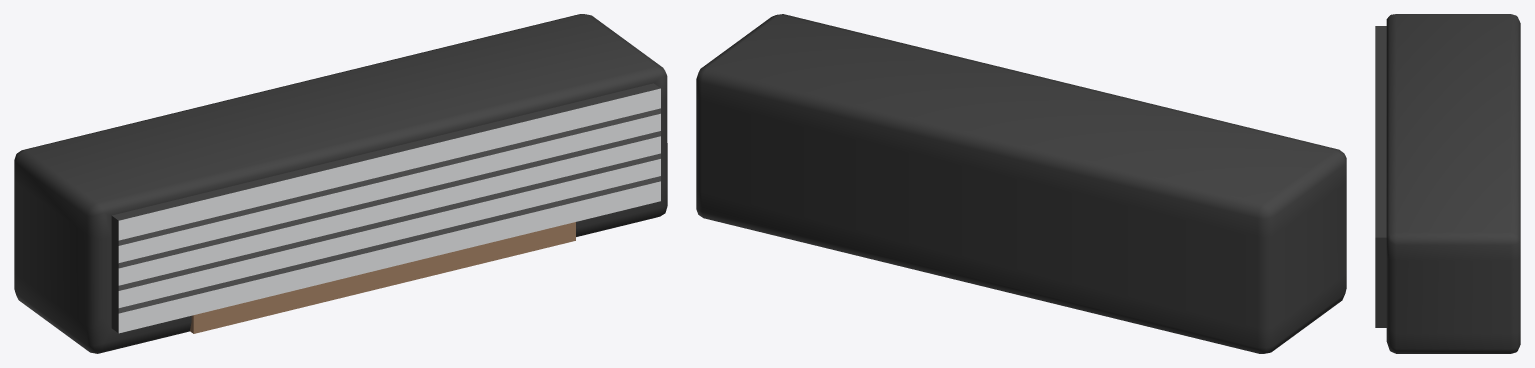
Rendered from Air-Conditioning.fbx.
The picture shows the model from 3 angles, left to right: view 1: azimuth 30°, elevation 25°; view 2: azimuth 150°, elevation 25°; view 3: azimuth 270°, elevation 25°; orthographic projection. The views are drawn at different scales.
Visible parts, largest first — view 1: Air-Conditioning; view 2: Air-Conditioning; view 3: Air-Conditioning.
Boxes of the visible parts, x1,y1,x2,y2 form: Air-Conditioning: (14, 14, 667, 353); Air-Conditioning: (696, 14, 1346, 353); Air-Conditioning: (1375, 14, 1520, 353).
Size of the model in its own units: 2.39 by 0.5967 by 0.6474.
